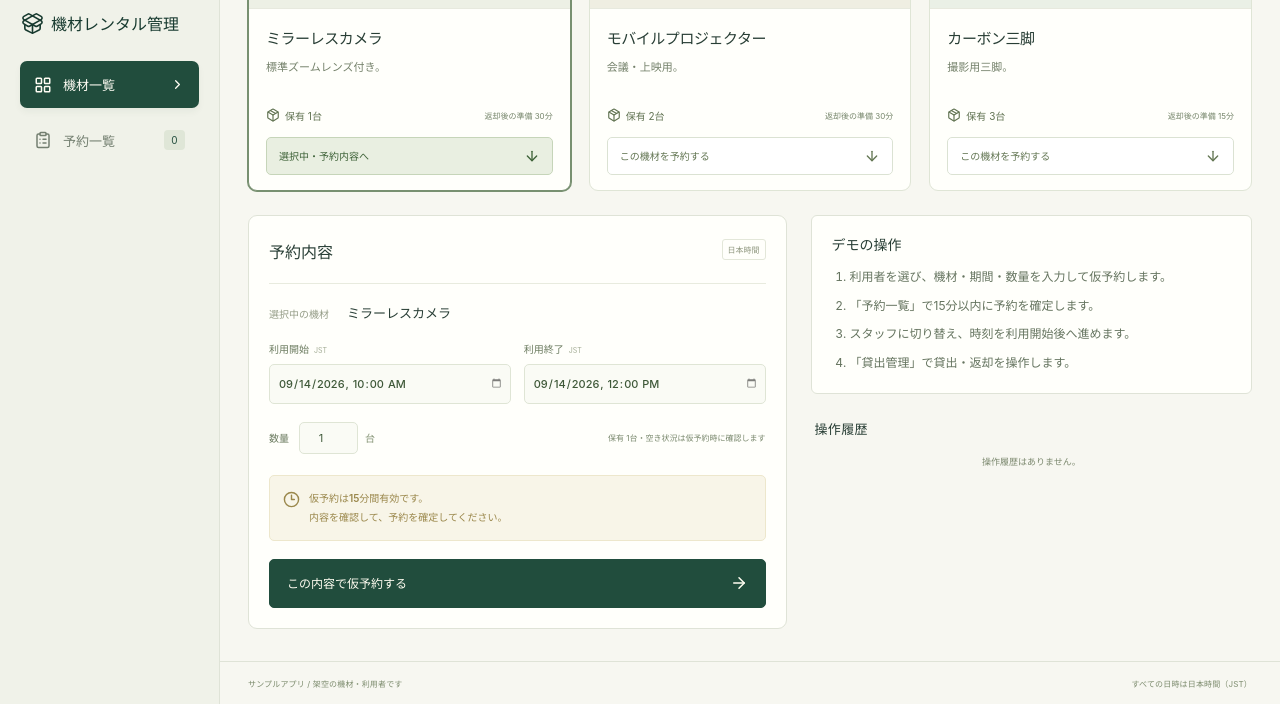
Test: 貸出デスクの画面 › 操作後の読込に失敗した場合、操作の再送ではなく更新を案内する
(page scrolled)
What coordinates should you click on to do the following:
click the button "この内容で仮予約する"
I would click on:
 (347, 583)
Its box is [269,559,766,608].
(page scrolled)
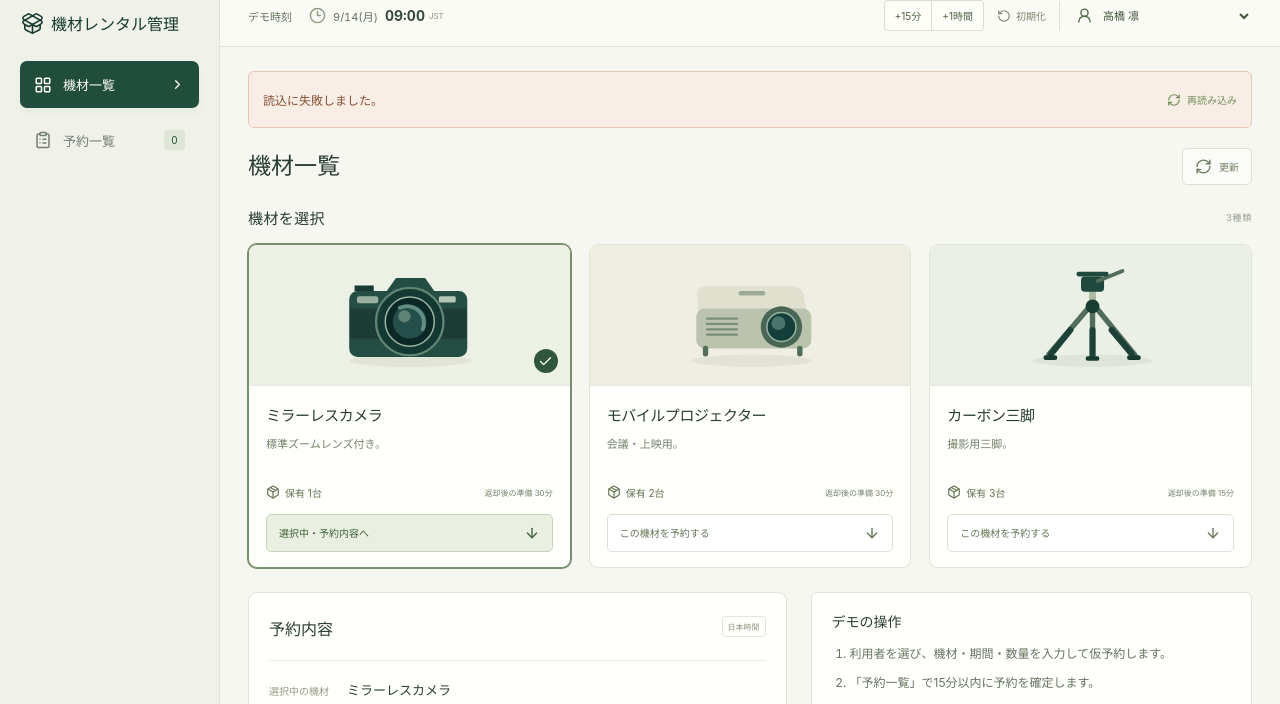
What coordinates should you click on to do the following:
click the button "再読み込み"
I would click on:
 (1202, 100)
Its box is [1167,86,1237,113].
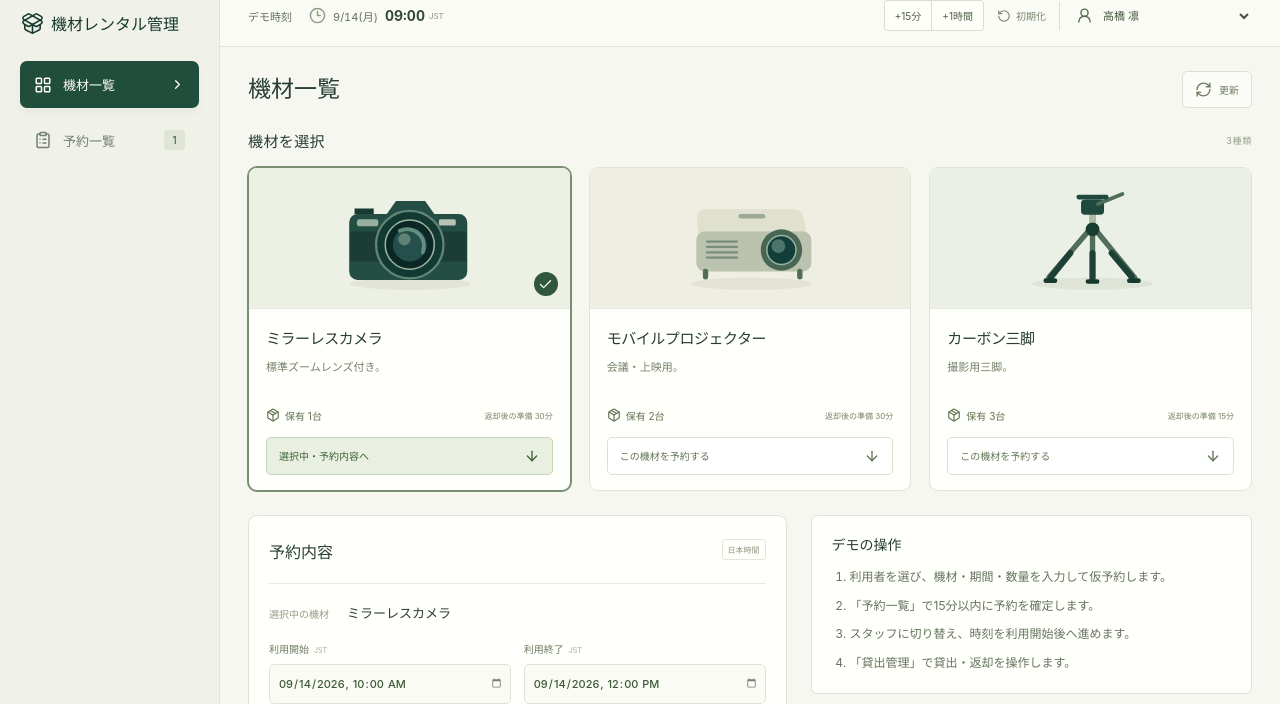
Expected: the text "読込に失敗しました。" is gone
